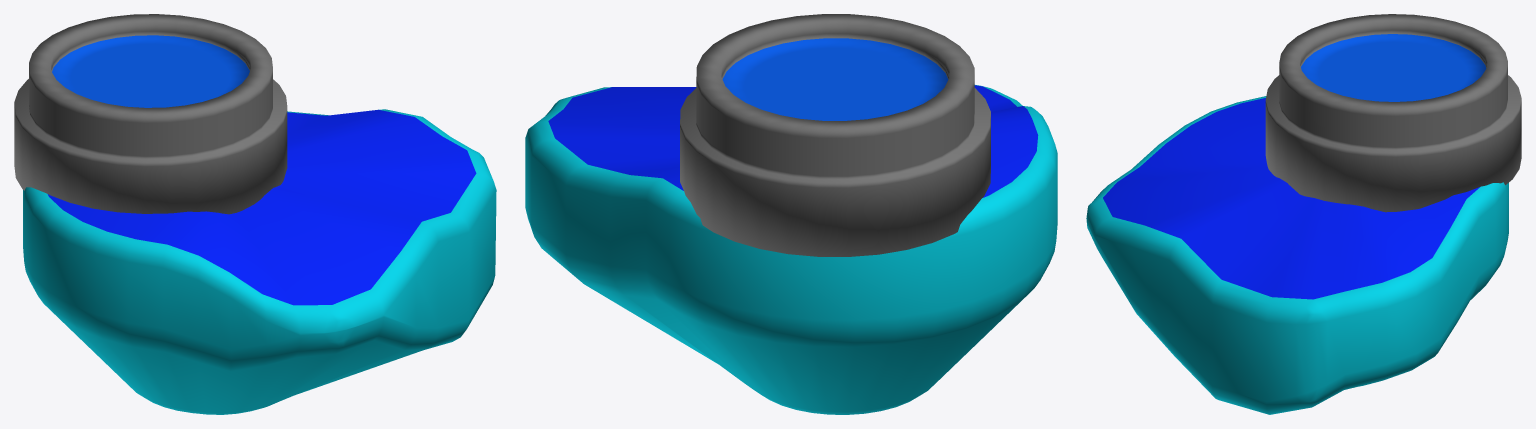
File: GEN_island.glb
The picture shows the model from 3 angles, left to right: view 1: azimuth 30°, elevation 25°; view 2: azimuth 150°, elevation 25°; view 3: azimuth 270°, elevation 25°; orthographic projection. The views are drawn at different scales.
Visible parts, largest first — view 1: Cylinder.005, OS bath; view 2: Cylinder.005, OS bath; view 3: Cylinder.005, OS bath.
Boxes of the visible parts, left/top/right/bottom form: Cylinder.005: left=23, top=109, right=496, bottom=414; OS bath: left=14, top=14, right=287, bottom=214; Cylinder.005: left=525, top=85, right=1057, bottom=414; OS bath: left=680, top=14, right=990, bottom=256; Cylinder.005: left=1086, top=96, right=1508, bottom=414; OS bath: left=1265, top=14, right=1521, bottom=212.
Bounding box in the file's own units: 2.59 × 1.76 × 2.45.
